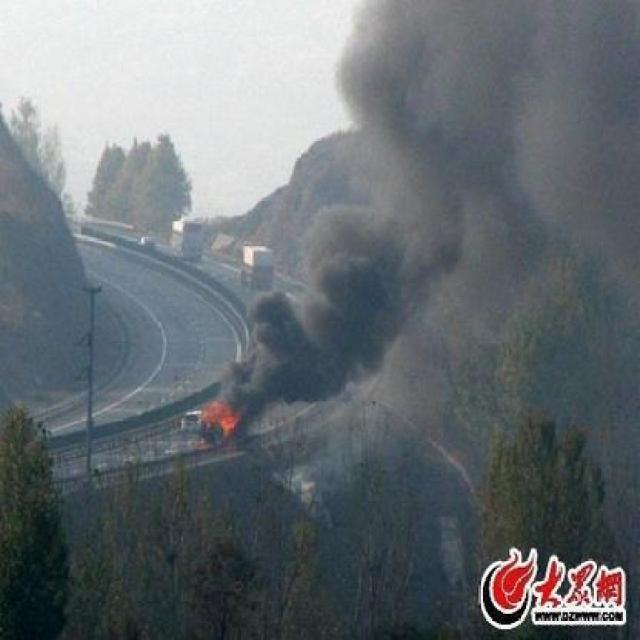Fire: (198, 387, 236, 457)
Smoke: (237, 12, 640, 401)
